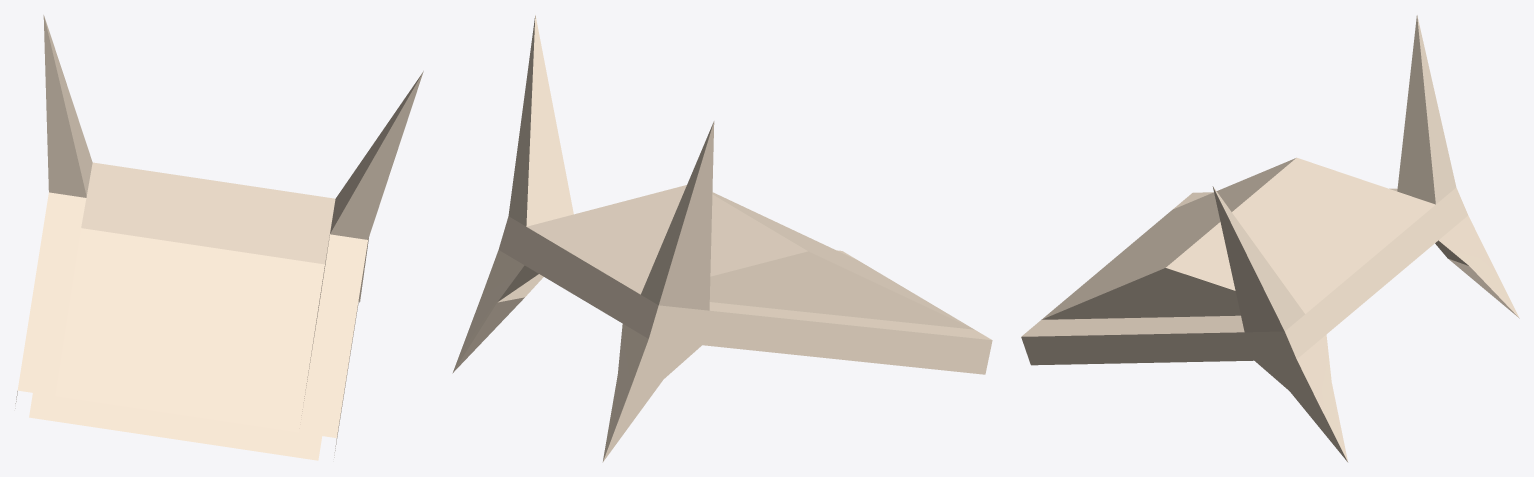
3 views of the same model, side by side, from view 1: azimuth 30°, elevation 25°; view 2: azimuth 150°, elevation 25°; view 3: azimuth 270°, elevation 25° (orthographic). The views are drawn at different scales.
Parts seen in each view (by area): view 1: Object47; view 2: Object47; view 3: Object47.
Boxes of the visible parts, box(x1,y1,x2,y2) form: Object47: box(15, 15, 423, 460); Object47: box(452, 15, 992, 462); Object47: box(1021, 15, 1519, 462).
Size of the model in its own units: 387 by 289 by 412.
